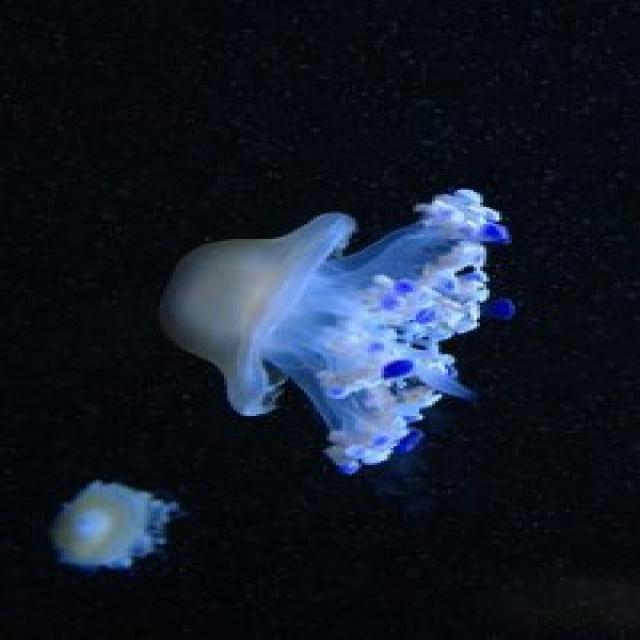Jellyfish: (153, 190, 557, 483), (46, 477, 200, 590)
